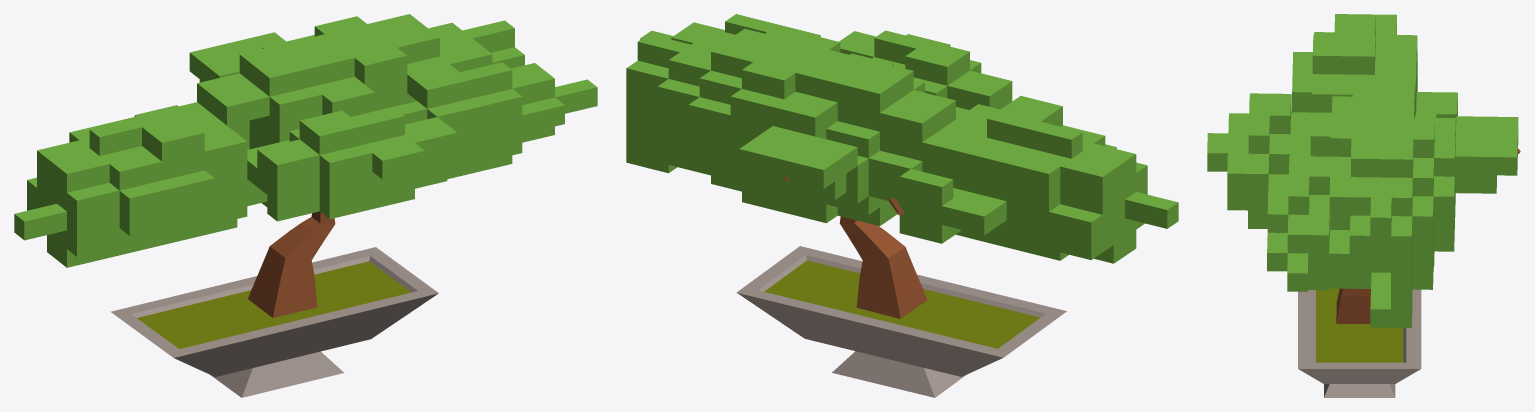
Rendered from Bonsai 3.fbx.
3 renders of one model, left to right at view 1: azimuth 30°, elevation 25°; view 2: azimuth 150°, elevation 25°; view 3: azimuth 270°, elevation 25°, orthographic. The views are drawn at different scales.
Parts seen in each view (by area): view 1: Cube.009; view 2: Cube.009; view 3: Cube.009.
Part boxes in pixels (bbox=[...]): Cube.009: bbox=[14, 14, 597, 397]; Cube.009: bbox=[626, 14, 1178, 397]; Cube.009: bbox=[1207, 14, 1520, 397].
Size of the model in its own units: 1101 by 572 by 558.
